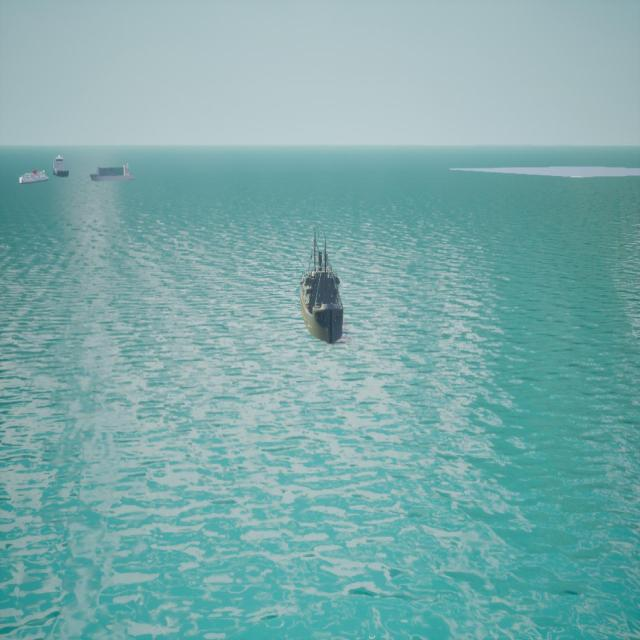fishing ship: (300, 231, 345, 347), (91, 164, 136, 183), (20, 169, 49, 185), (54, 155, 69, 177)
